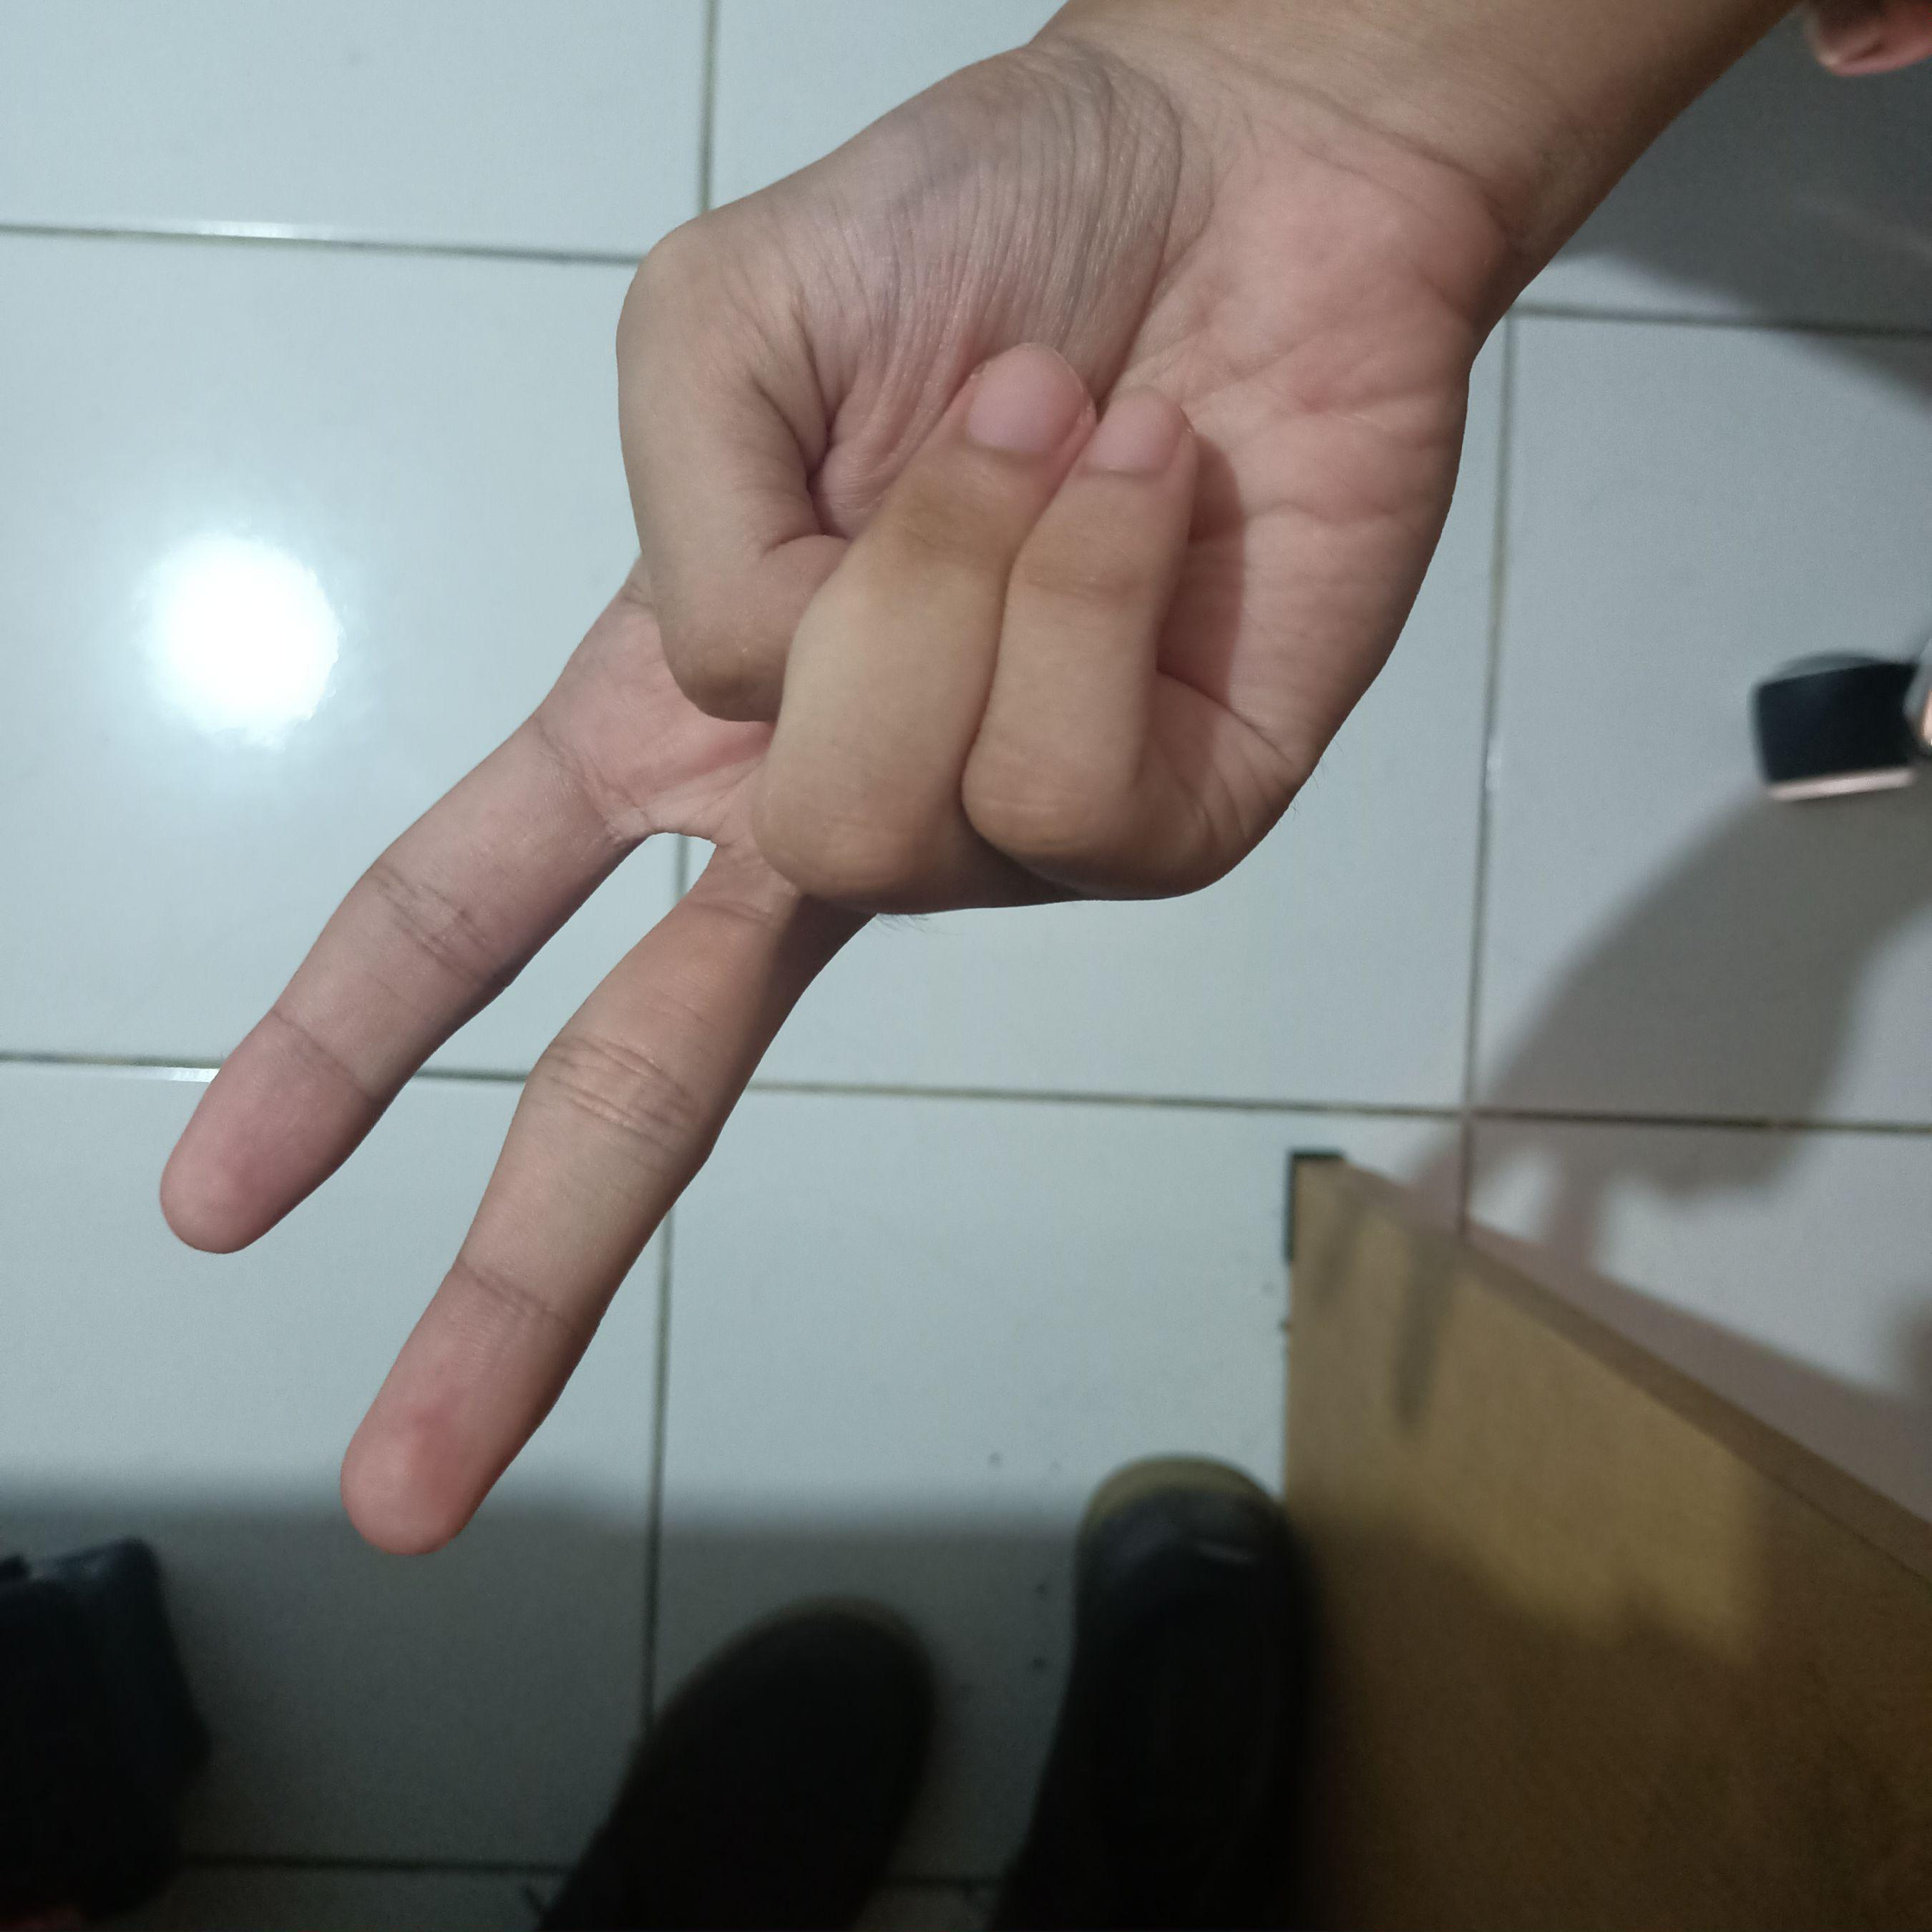scissors: (134, 0, 1527, 1564)
